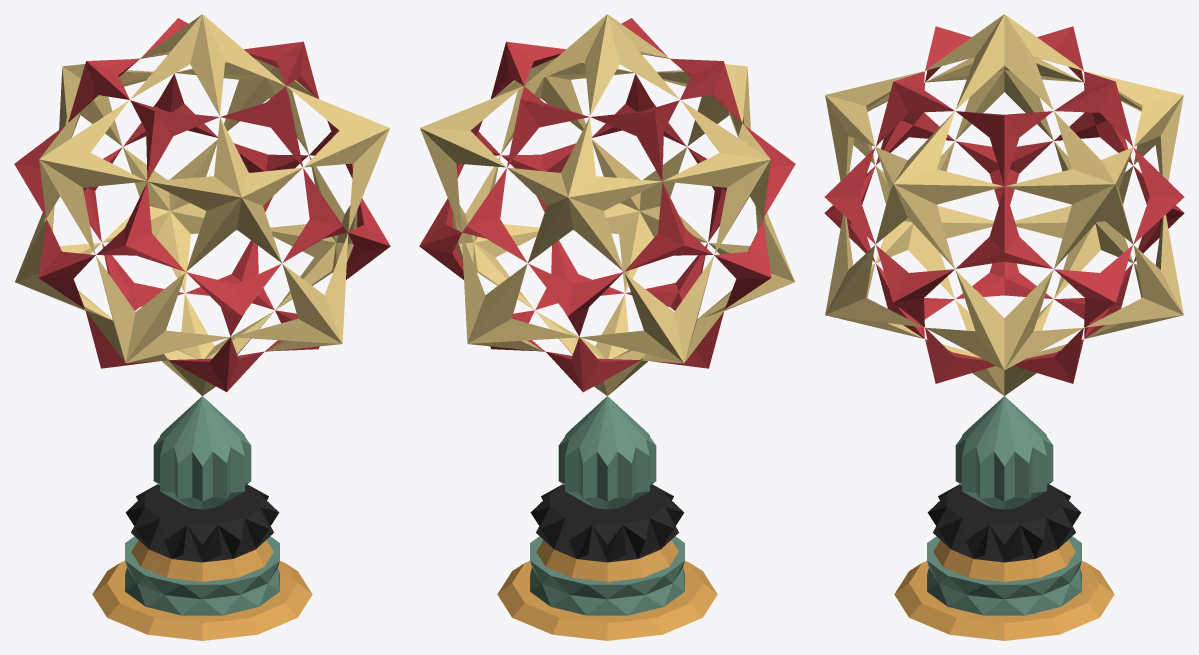
File: Jamnitzer_obra3.glb
3 views of the same model, side by side, from view 1: azimuth 30°, elevation 25°; view 2: azimuth 150°, elevation 25°; view 3: azimuth 270°, elevation 25° (orthographic).
Parts seen in each view (by area): view 1: Solid.019, Solid.020, Cylinder.005, Cylinder.004, Cylinder.007, Cylinder.006, Cylinder.003; view 2: Solid.019, Solid.020, Cylinder.005, Cylinder.004, Cylinder.007, Cylinder.006, Cylinder.003; view 3: Solid.019, Solid.020, Cylinder.005, Cylinder.004, Cylinder.007, Cylinder.006, Cylinder.003.
Part boxes in pixels (box(x1,y1,x2,y2)): Solid.019: box(15, 14, 389, 395); Solid.020: box(14, 18, 390, 392); Cylinder.005: box(153, 396, 251, 509); Cylinder.004: box(125, 484, 279, 562); Cylinder.007: box(92, 561, 312, 640); Cylinder.006: box(125, 536, 279, 615); Cylinder.003: box(131, 540, 273, 581); Solid.019: box(420, 14, 794, 395); Solid.020: box(419, 18, 795, 392); Cylinder.005: box(558, 396, 656, 509); Cylinder.004: box(530, 484, 684, 562); Cylinder.007: box(497, 561, 717, 640); Cylinder.006: box(530, 536, 684, 615); Cylinder.003: box(536, 540, 678, 581); Solid.019: box(825, 14, 1183, 395); Solid.020: box(824, 26, 1184, 383); Cylinder.005: box(955, 396, 1053, 509); Cylinder.004: box(927, 484, 1081, 562); Cylinder.007: box(894, 561, 1114, 640); Cylinder.006: box(927, 536, 1081, 615); Cylinder.003: box(933, 540, 1075, 581).
Bounding box in the file's own units: 1.49 × 2.53 × 1.42.
Materials: 5 (1 with a texture image).
